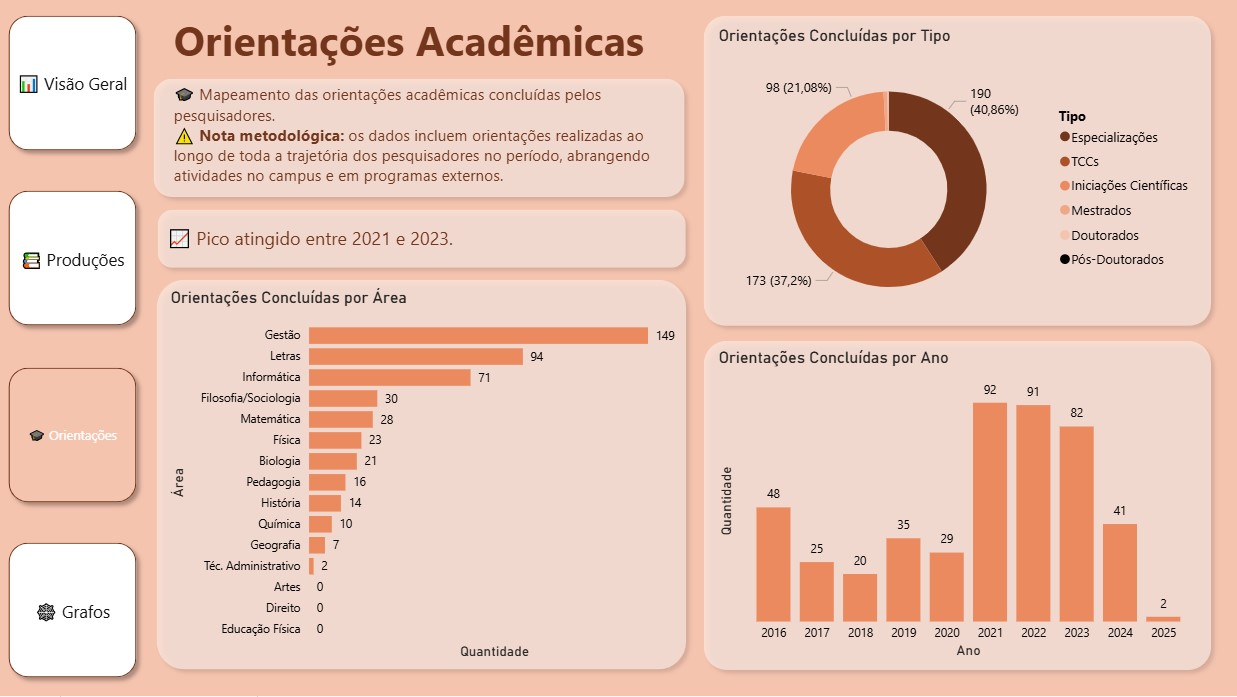

What the dashboard file says about the page in this screenshot:
{"tool":"powerbi","page":{"name":"🎓 Orientações","canvas":[1280,720],"ordinal":2},"visuals":[{"type":"shape","box":[718.6,343,542.8,358.6],"z":0},{"type":"shape","box":[718.6,7.1,542.8,338.7],"z":1000},{"type":"shape","box":[153.1,280.6,565.5,420.9],"z":2000},{"type":"clusteredBarChart","title":"Orientações Concluídas por Área","fields":{"Y":["Sum(Fato_Orientacoes.Qtd orientações)"],"Category":["Dim_Pesq_Areas.Rótulo/Grupo"]},"box":[171.5,297.6,537.2,388.3],"z":3000},{"type":"clusteredColumnChart","title":"Orientações Concluídas por Ano","fields":{"Category":["Fato_Orientacoes.Ano"],"Y":["Sum(Fato_Orientacoes.Qtd orientações)"]},"box":[738.4,360,506,326],"z":4000},{"type":"donutChart","title":"Orientações Concluídas por Tipo","fields":{"Category":["Fato_Orientacoes.Tipo orientação"],"Y":["Sum(Fato_Orientacoes.Qtd orientações)"]},"box":[738.4,26.9,504.6,318.9],"z":5000},{"type":"shape","box":[150.2,72.3,566.9,140.3],"z":6000},{"type":"textbox","box":[174.3,82.2,534.3,114.8],"z":7000},{"type":"textbox","box":[174.3,7.1,525.8,75.1],"z":8000},{"type":"shape","box":[0,7.1,150,157.1],"z":9000},{"type":"shape","box":[0,188.6,150,157.1],"z":10000},{"type":"shape","box":[0,552.9,150,157.1],"z":11000},{"type":"shape","box":[0,371.4,150,157.1],"z":12000},{"type":"pageNavigator","box":[0,0,150,720],"z":13000},{"type":"shape","box":[154.5,208.3,564.1,78],"z":14000},{"type":"textbox","box":[168.7,228.2,514.5,38.3],"z":15000}]}

Visuals, with their boxes in screenshot pixels (x1, y1, x2, y2), scaled from the page's 1280x720 canvas onto the 1237x697 screenshot:
shape: left=694, top=332, right=1219, bottom=679
shape: left=694, top=7, right=1219, bottom=335
shape: left=148, top=272, right=694, bottom=679
"Orientações Concluídas por Área" clusteredBarChart: left=166, top=288, right=685, bottom=664
"Orientações Concluídas por Ano" clusteredColumnChart: left=714, top=348, right=1203, bottom=664
"Orientações Concluídas por Tipo" donutChart: left=714, top=26, right=1201, bottom=335
shape: left=145, top=70, right=693, bottom=206
textbox: left=168, top=80, right=685, bottom=191
textbox: left=168, top=7, right=677, bottom=80
shape: left=0, top=7, right=145, bottom=159
shape: left=0, top=183, right=145, bottom=335
shape: left=0, top=535, right=145, bottom=687
shape: left=0, top=360, right=145, bottom=512
pageNavigator: left=0, top=0, right=145, bottom=696
shape: left=149, top=202, right=694, bottom=277
textbox: left=163, top=221, right=660, bottom=258
